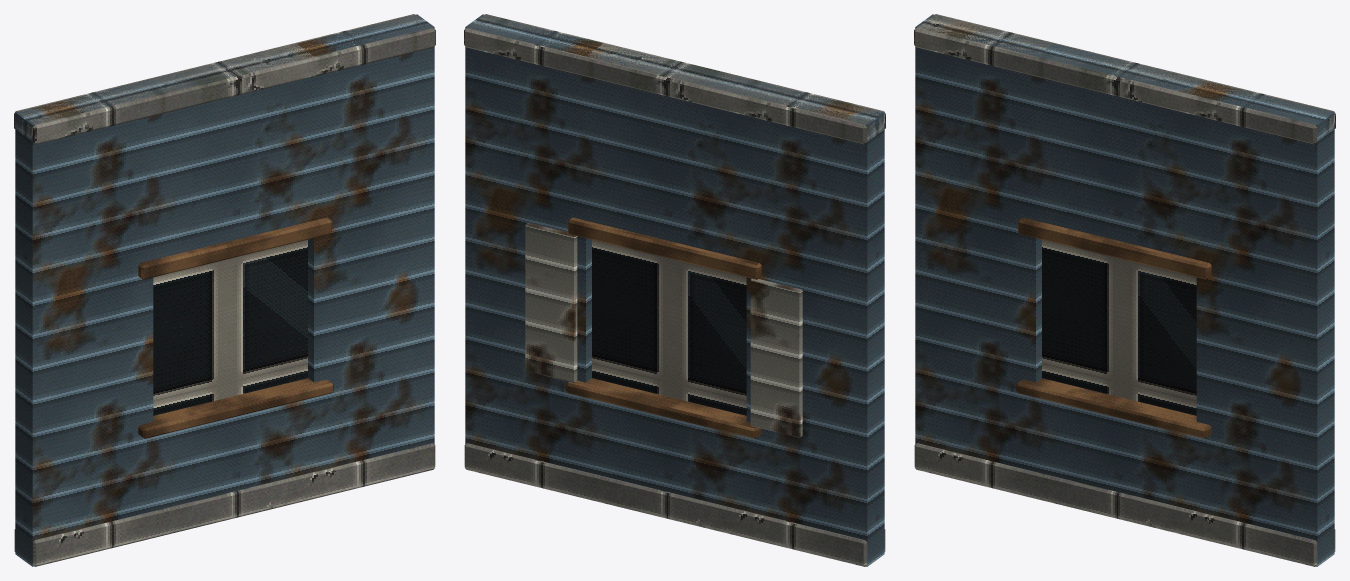
The model's file is wall_siding_blue_glass.glb.
The picture shows the model from 3 angles, left to right: view 1: azimuth 30°, elevation 25°; view 2: azimuth 150°, elevation 25°; view 3: azimuth 330°, elevation 25°; orthographic projection.
Parts seen in each view (by area): view 1: wall_siding_blue_glass_mesh; view 2: wall_siding_blue_glass_mesh; view 3: wall_siding_blue_glass_mesh.
Part boxes in pixels (x1,y1,x2,y2): wall_siding_blue_glass_mesh: (14, 14, 435, 566); wall_siding_blue_glass_mesh: (464, 14, 885, 566); wall_siding_blue_glass_mesh: (914, 14, 1335, 566).
Size of what is drawn, in the model's own units: 4 by 4.2 by 0.5.
Materials: 5 (5 with a texture image).
